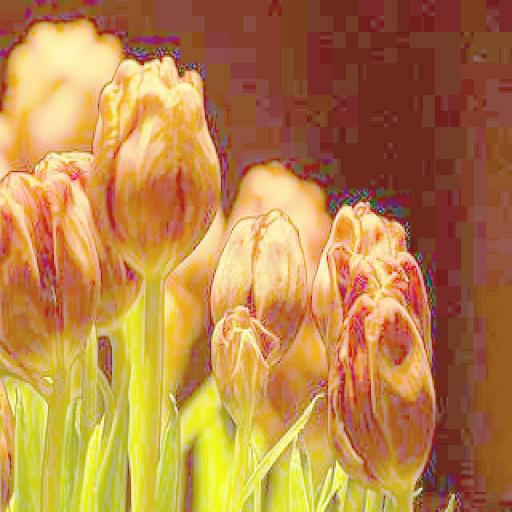tulip: (91, 55, 219, 276), (328, 292, 437, 498), (214, 206, 309, 371)
